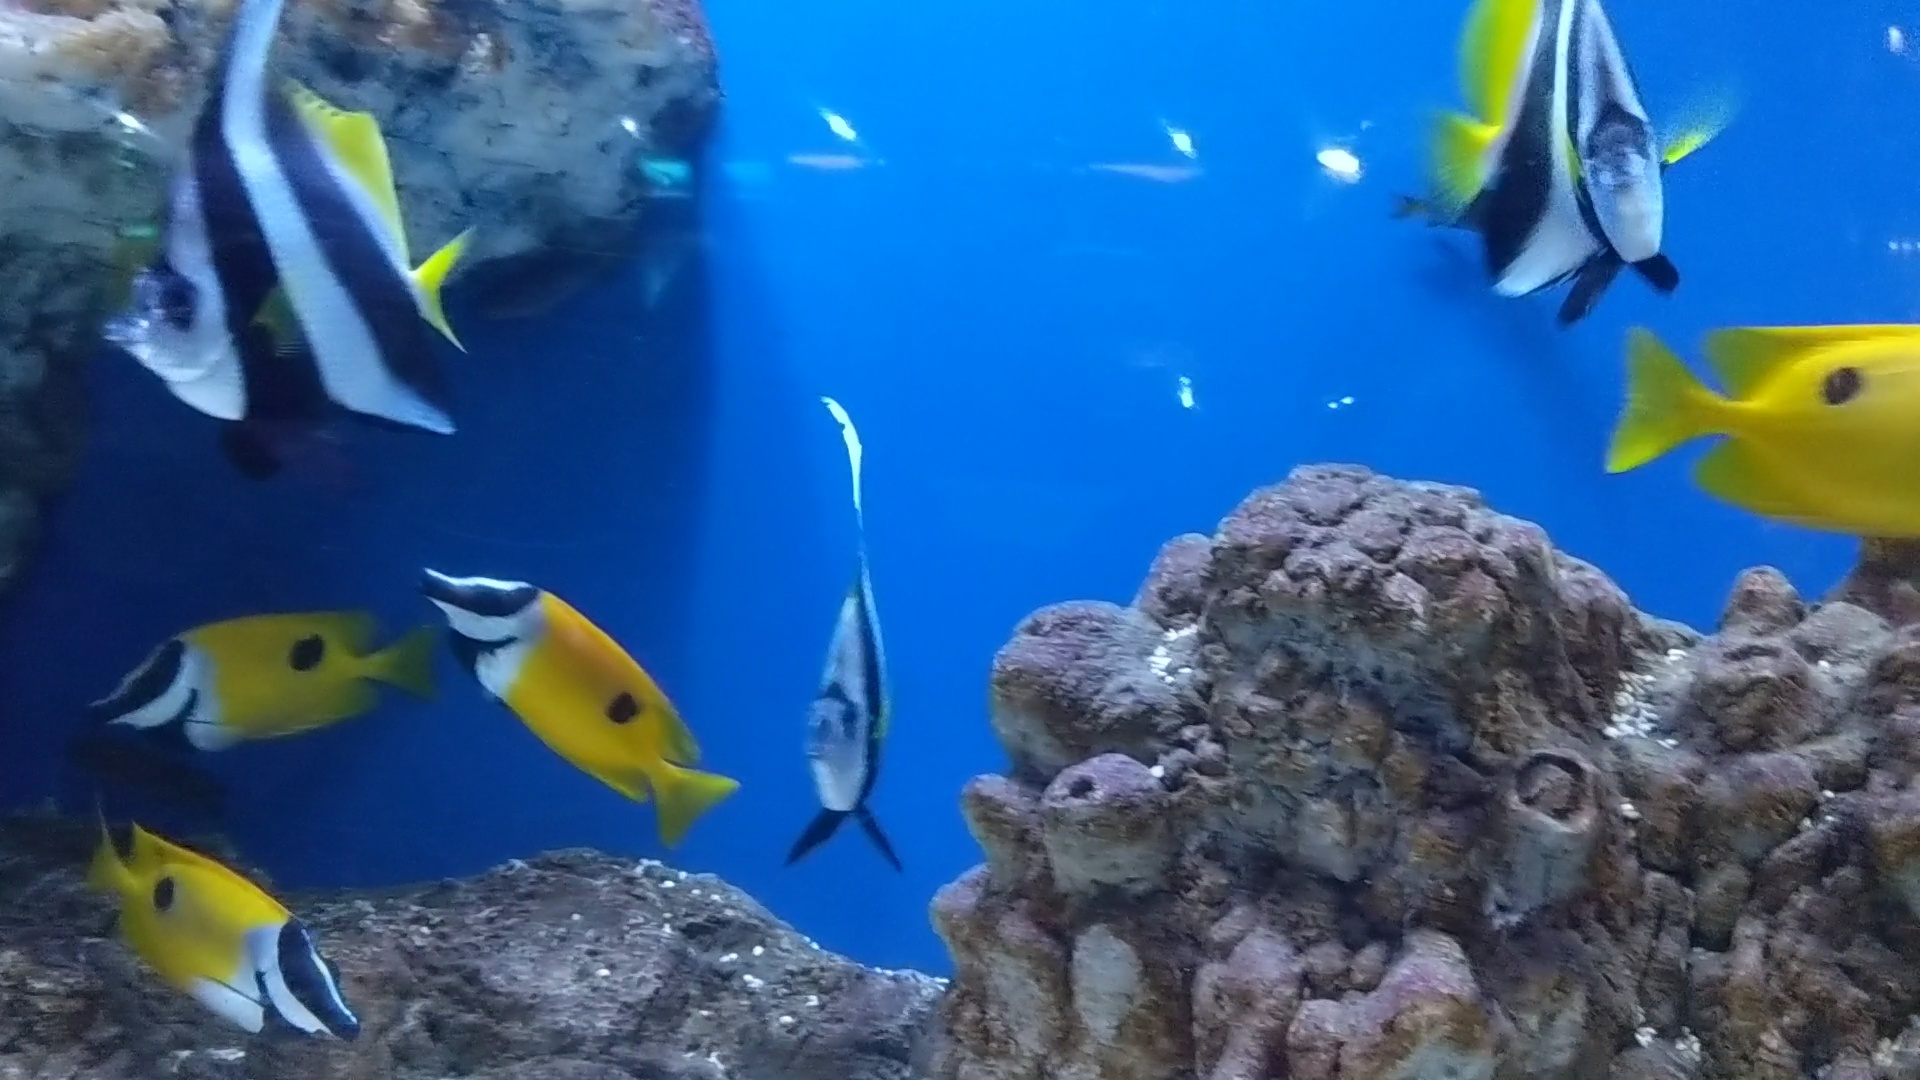moorfish: (73, 15, 495, 460), (754, 367, 920, 874), (1424, 3, 1691, 313)
rabbitfish: (405, 549, 750, 851), (1590, 286, 1919, 564), (73, 812, 363, 1056), (45, 584, 417, 770)
